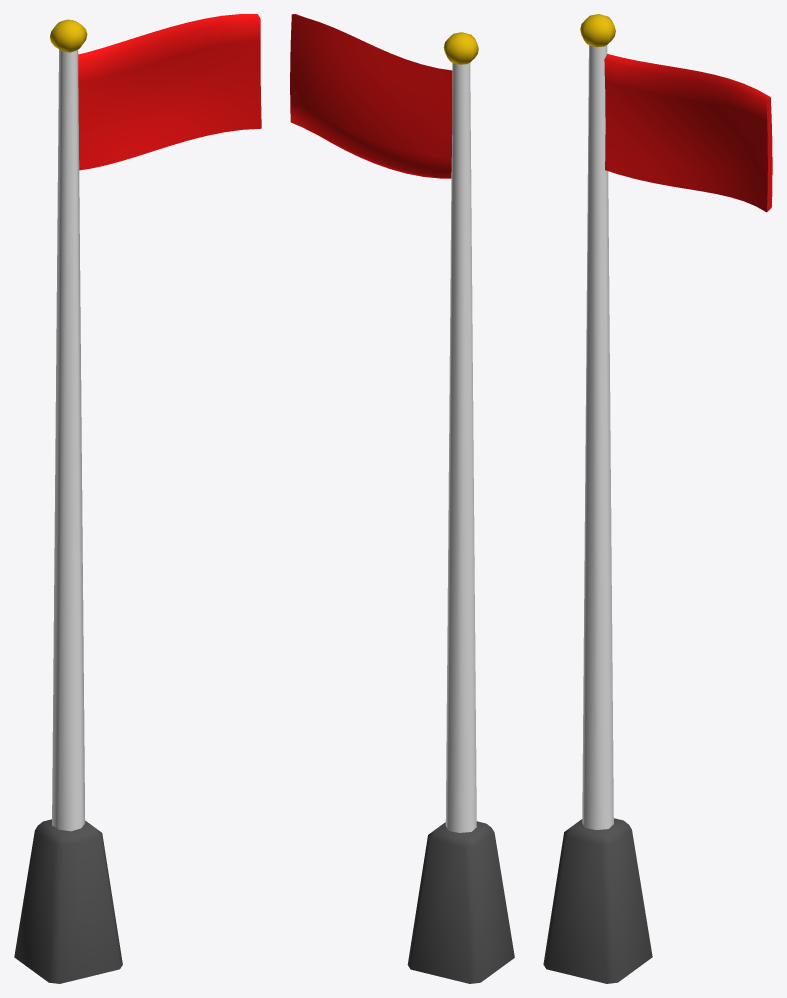
The model's file is FlagPole001.FBX.
The picture shows the model from 3 angles, left to right: view 1: azimuth 30°, elevation 25°; view 2: azimuth 150°, elevation 25°; view 3: azimuth 330°, elevation 25°; orthographic projection.
Visible parts, largest first — view 1: Box001; view 2: Box001; view 3: Box001.
Boxes of the visible parts, x1,y1,x2,y2 form: Box001: (14,14,261,983); Box001: (290,14,514,983); Box001: (543,14,772,983).
Bounding box in the file's own units: 50.15 × 206 × 17.
